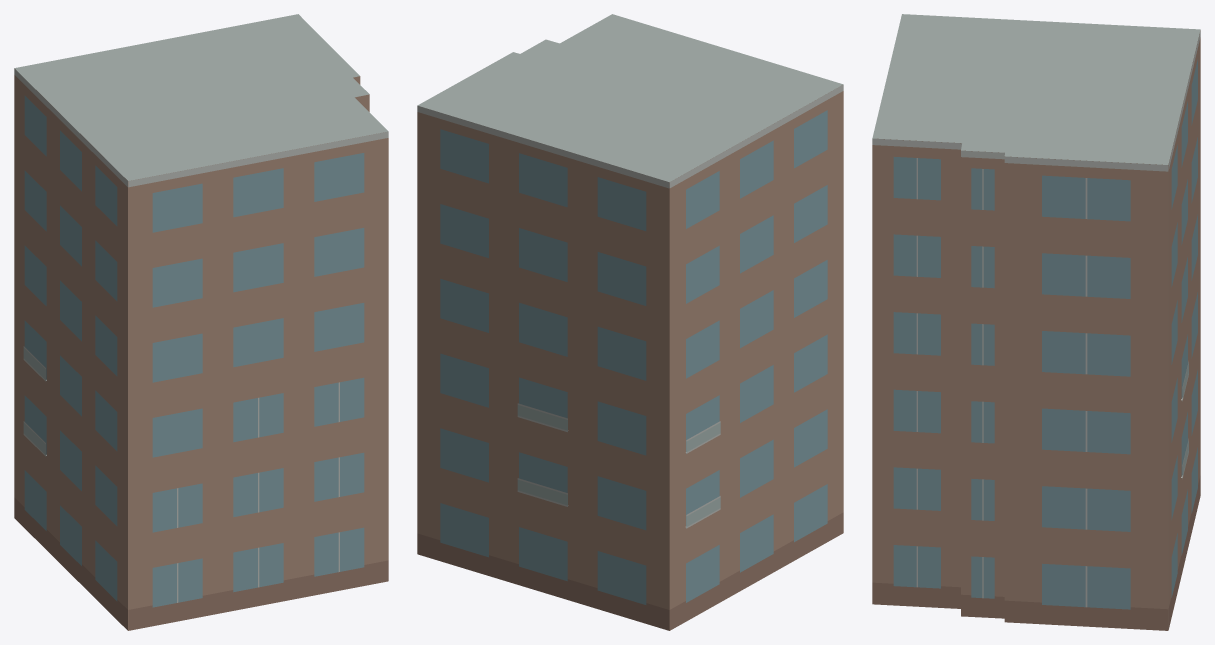
File: survey-upis-32667076.glb
3 renders of one model, left to right at view 1: azimuth 30°, elevation 25°; view 2: azimuth 150°, elevation 25°; view 3: azimuth 270°, elevation 25°, orthographic. The views are drawn at different scales.
Parts seen in each view (by area): view 1: survey-upis-32667076.tmp; view 2: survey-upis-32667076.tmp; view 3: survey-upis-32667076.tmp.
Boxes of the visible parts, x1=… form: survey-upis-32667076.tmp: x1=14, y1=14, x2=388, y2=630; survey-upis-32667076.tmp: x1=417, y1=14, x2=843, y2=630; survey-upis-32667076.tmp: x1=872, y1=14, x2=1200, y2=630.
Size of the model in its own units: 12.04 by 17.3 by 11.06.
